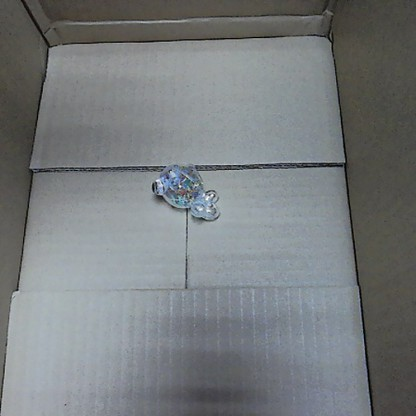whitefish: (147, 160, 222, 223)
